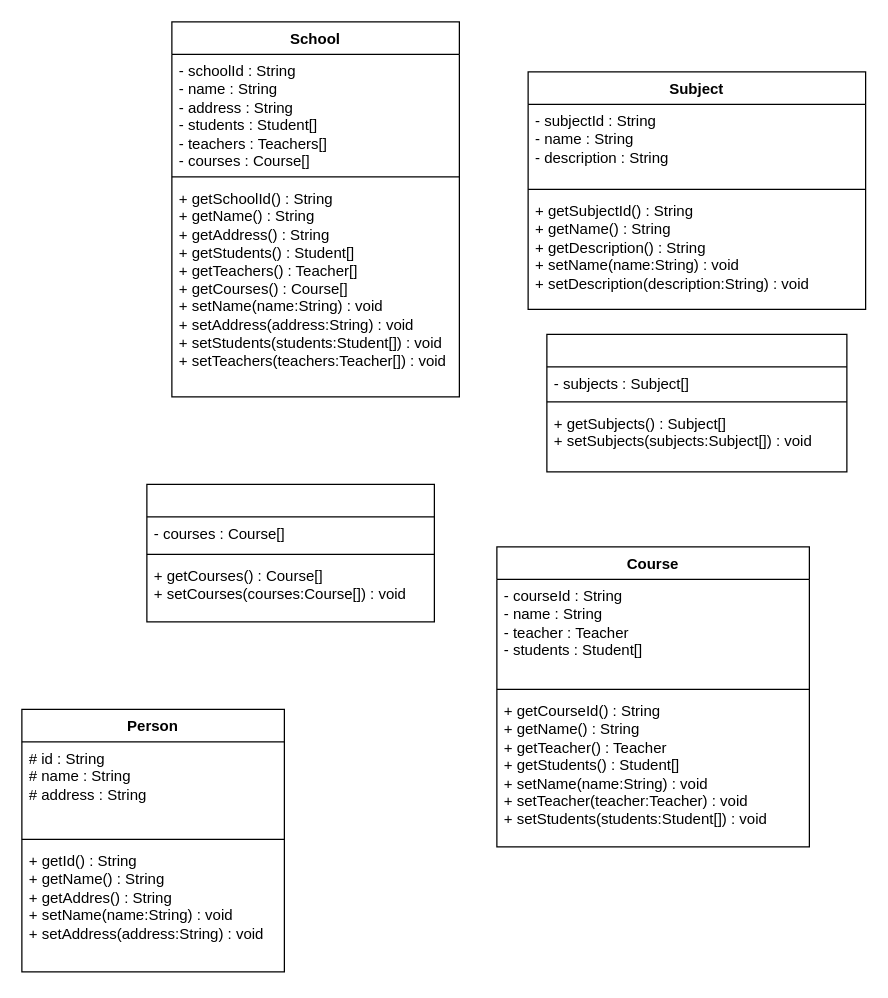
Image size: 888x998. Some labels were removed from this diagram. Here are the shapes that lost their labels. From the top down, the box of each, then its label:
(546, 333, 847, 472): Teacher
(146, 483, 434, 622): Student
